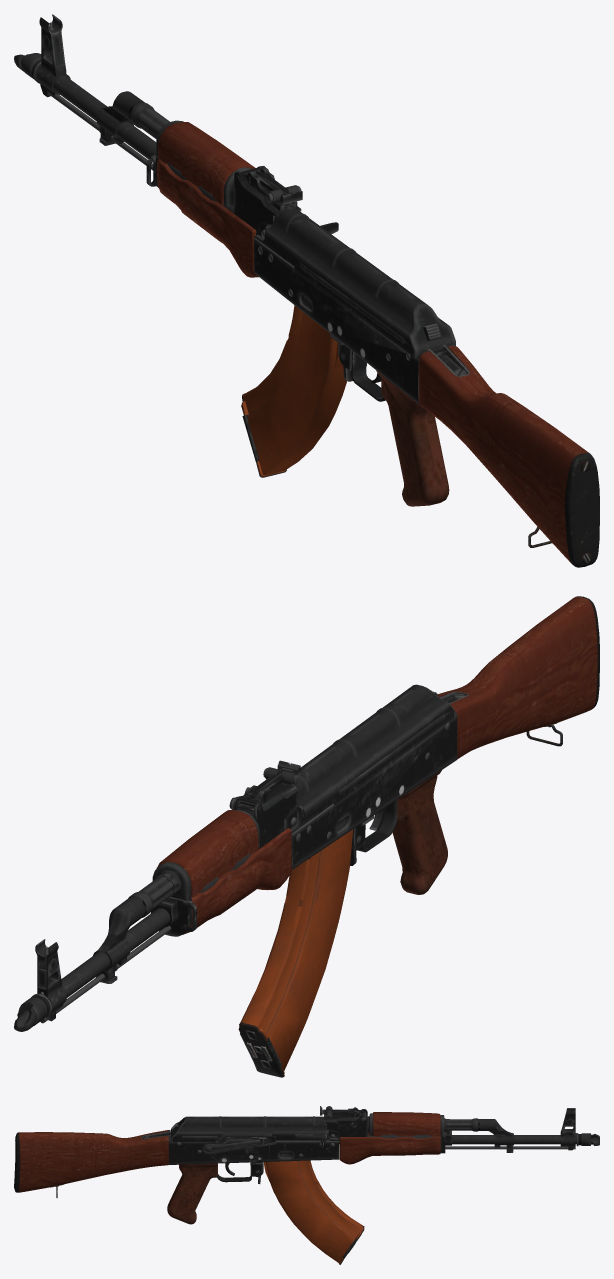
Rendered from akm_lod.glb.
3 renders of one model, top to bottom at view 1: azimuth 30°, elevation 25°; view 2: azimuth 150°, elevation 25°; view 3: azimuth 270°, elevation 25°, orthographic. The views are drawn at different scales.
Parts seen in each view (by area): view 1: akm_body, mag; view 2: akm_body, mag; view 3: akm_body, mag.
Boxes of the visible parts, x1,y1,x2,y2 form: akm_body: (14,14,599,567); mag: (241,305,346,477); akm_body: (14,596,599,1031); mag: (238,829,353,1077); akm_body: (14,1106,599,1224); mag: (263,1160,364,1264).
Size of the model in its own units: 0.0682 by 0.2588 by 0.8953.
Materials: 3 (3 with a texture image).
